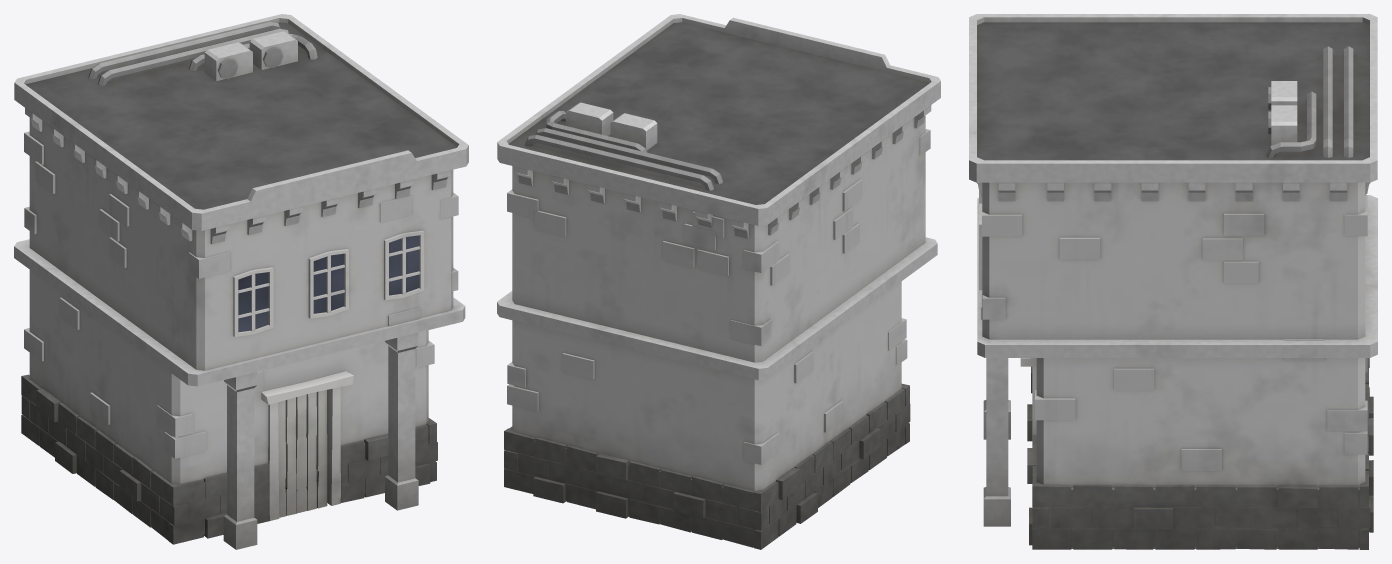
Rendered from building_2Story_Columns.glb.
The picture shows the model from 3 angles, left to right: view 1: azimuth 30°, elevation 25°; view 2: azimuth 150°, elevation 25°; view 3: azimuth 270°, elevation 25°; orthographic projection. The views are drawn at different scales.
Visible parts, largest first — view 1: 2Story_Columns_high; view 2: 2Story_Columns_high; view 3: 2Story_Columns_high.
Boxes of the visible parts, left/top/right/bottom form: 2Story_Columns_high: left=14, top=14, right=468, bottom=549; 2Story_Columns_high: left=497, top=14, right=940, bottom=549; 2Story_Columns_high: left=969, top=14, right=1377, bottom=549.
Size of the model in its own units: 2.16 by 2.77 by 2.49.
Materials: 2 (2 with a texture image).
